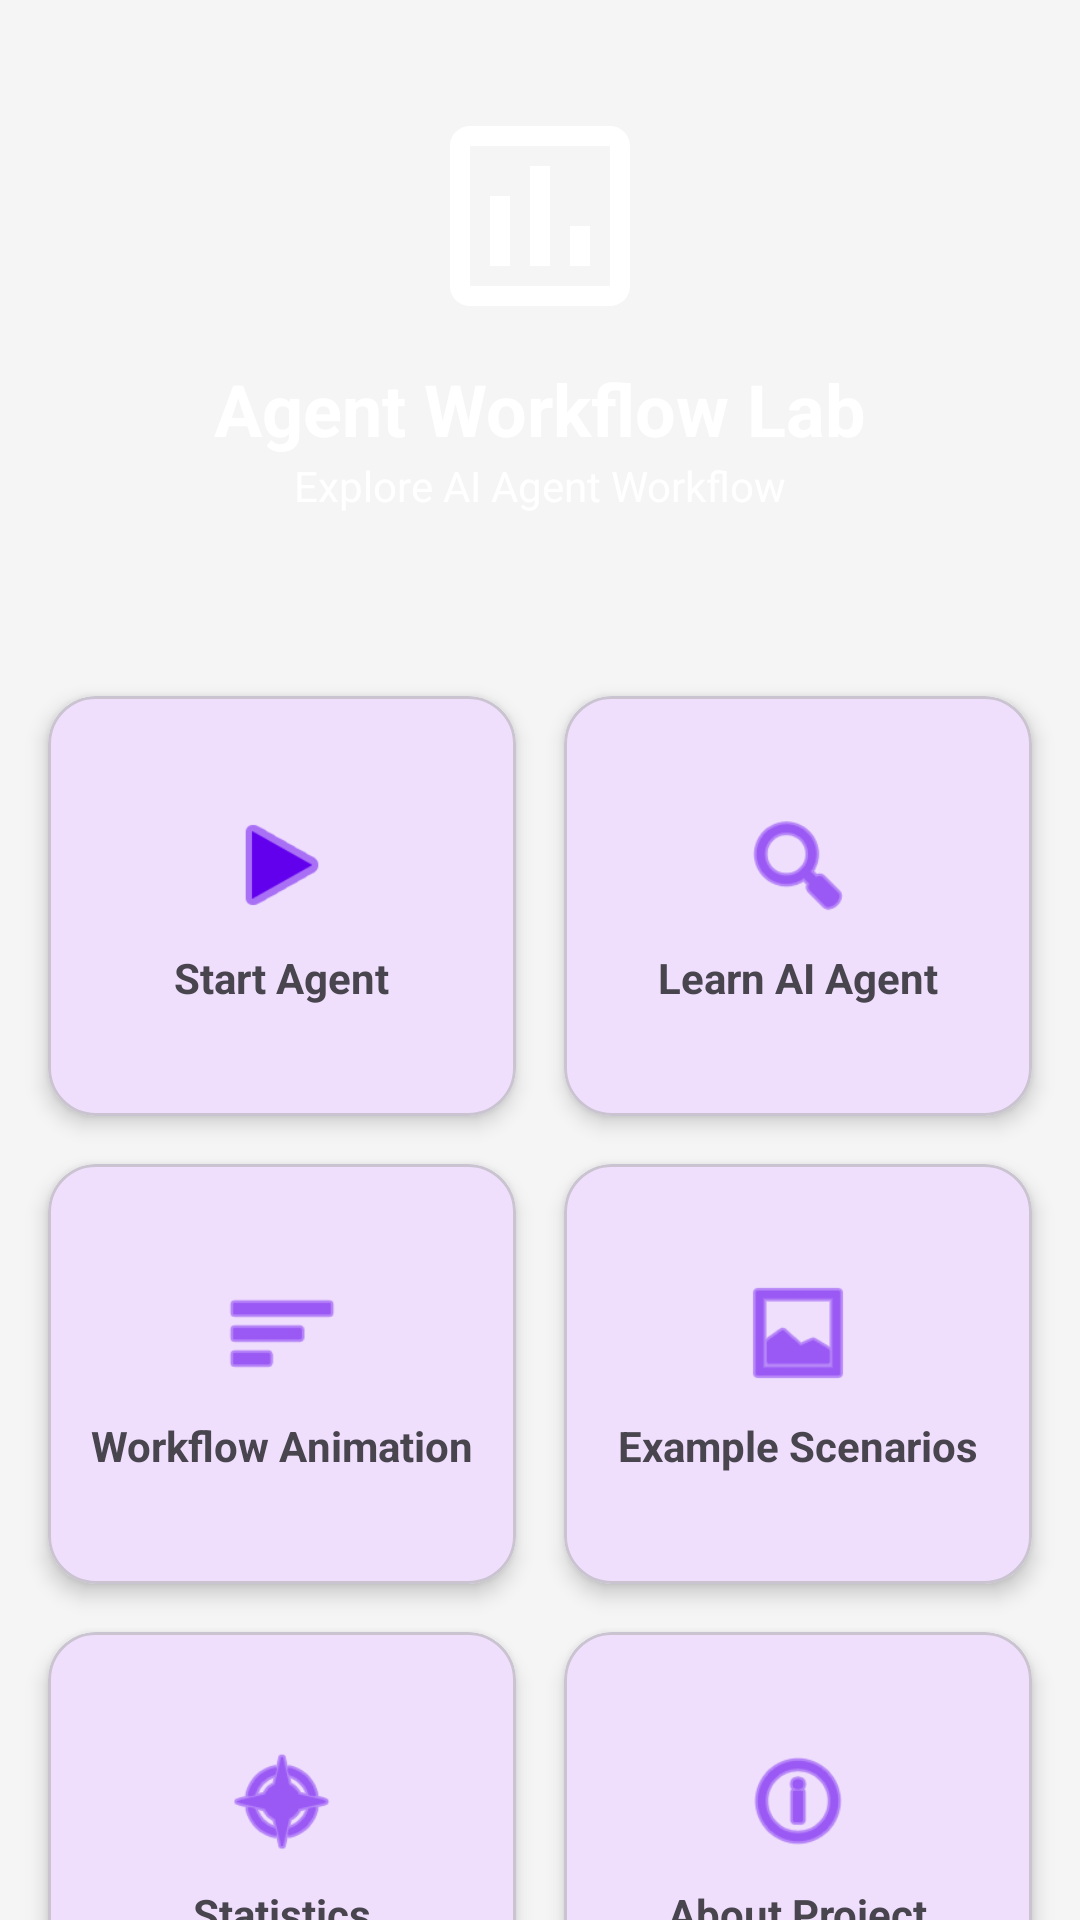

Named icons in this screenshot (1080px×1920px) and their bounding boxes, (x1, y1, x2, y2):
compass: (234, 1754, 329, 1849)
gallery: (753, 1288, 843, 1378)
info details: (755, 1758, 841, 1844)
play: (245, 825, 319, 905)
search: (754, 821, 842, 910)
sort by size: (230, 1300, 334, 1367)
